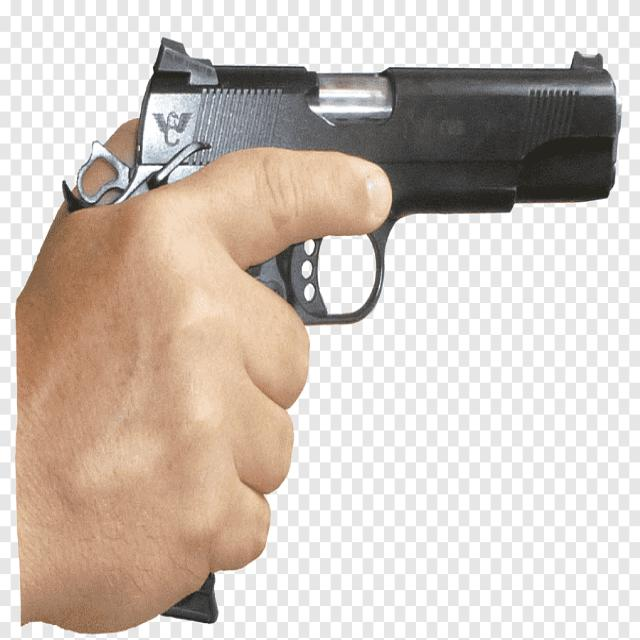HandGun: (55, 18, 627, 353)
